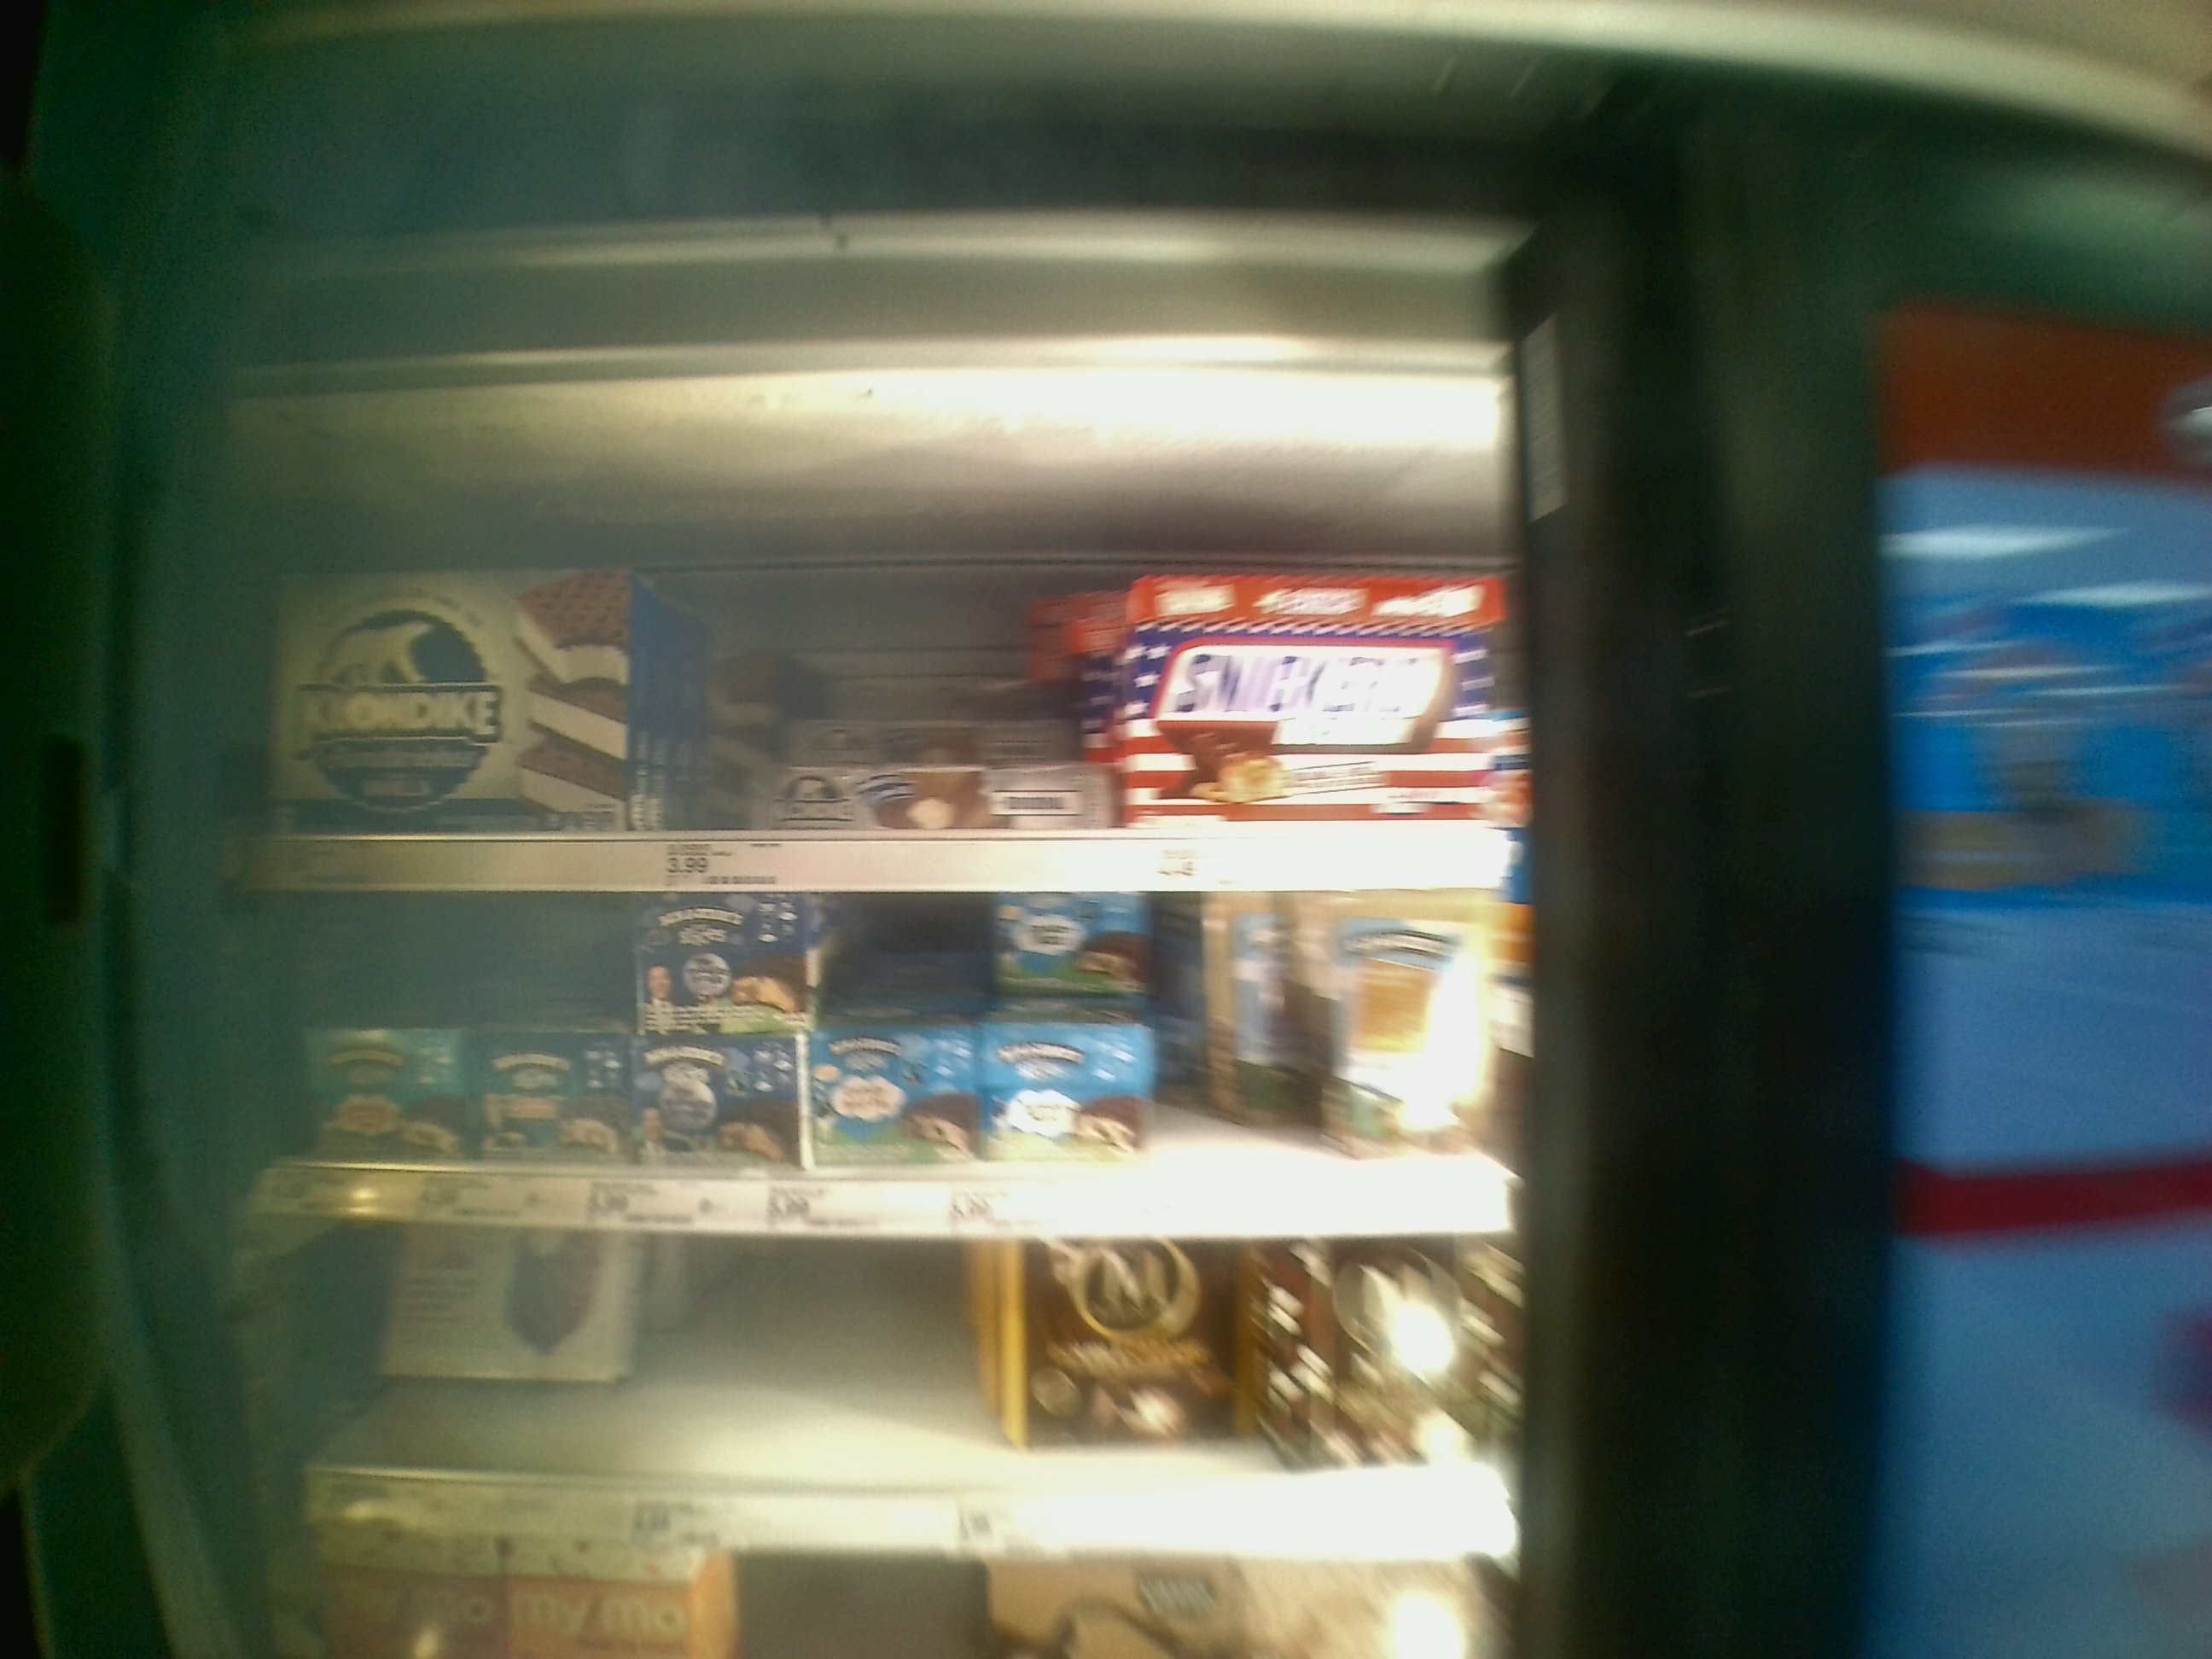ice-cream-shelf: (240, 369, 1538, 894), (240, 899, 1536, 1234), (249, 1239, 1543, 1560)
